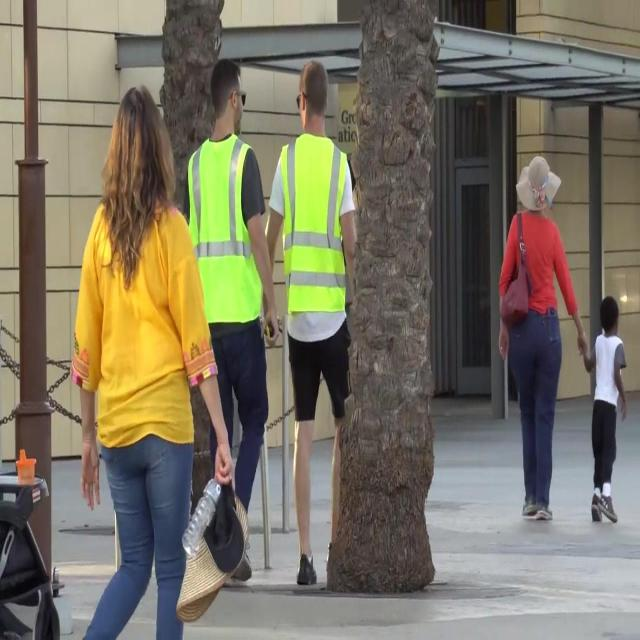Vest: (186, 133, 264, 320), (280, 128, 348, 313)
